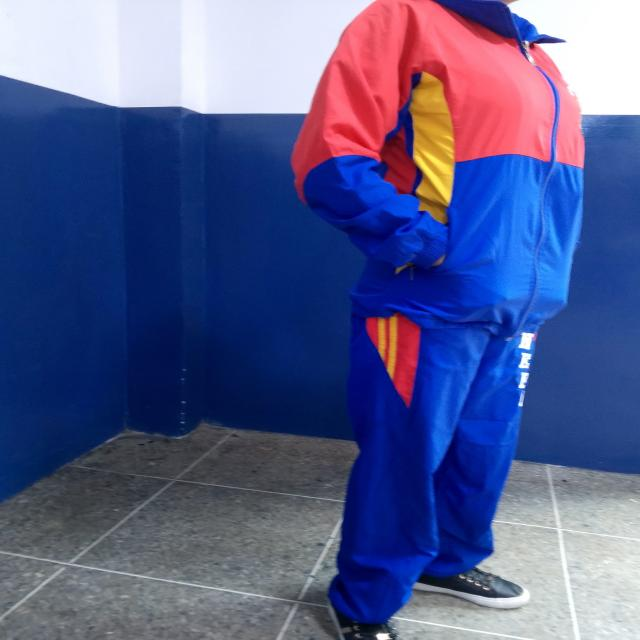chaqueta_unefa: (290, 0, 588, 324)
